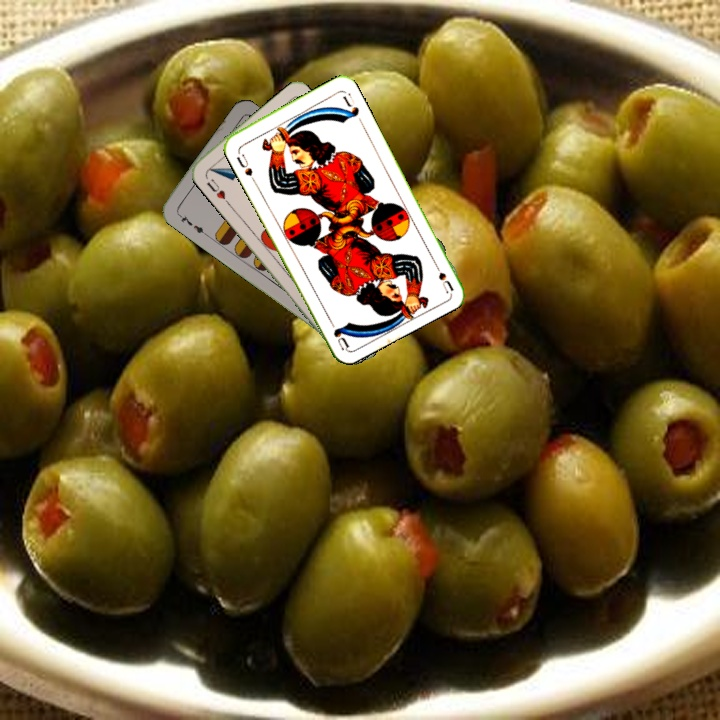E7: (173, 209, 209, 238)
HU: (202, 174, 228, 202)
SU: (429, 256, 455, 295), (233, 150, 257, 184)
